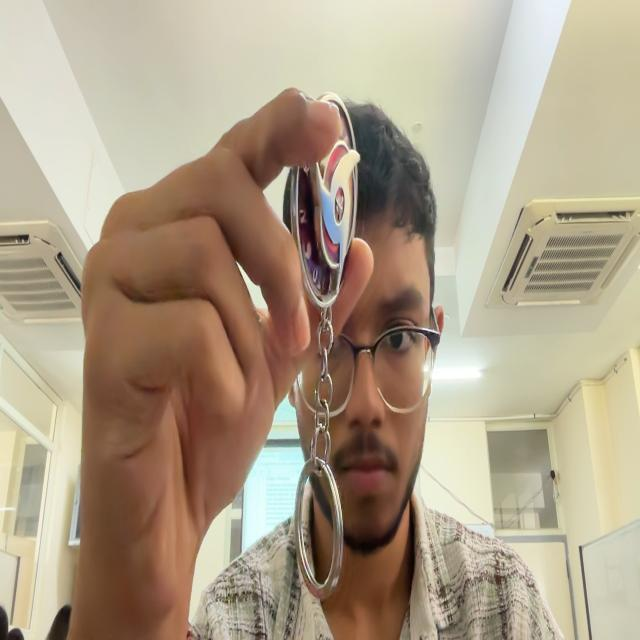dangerous: (286, 93, 360, 599)
